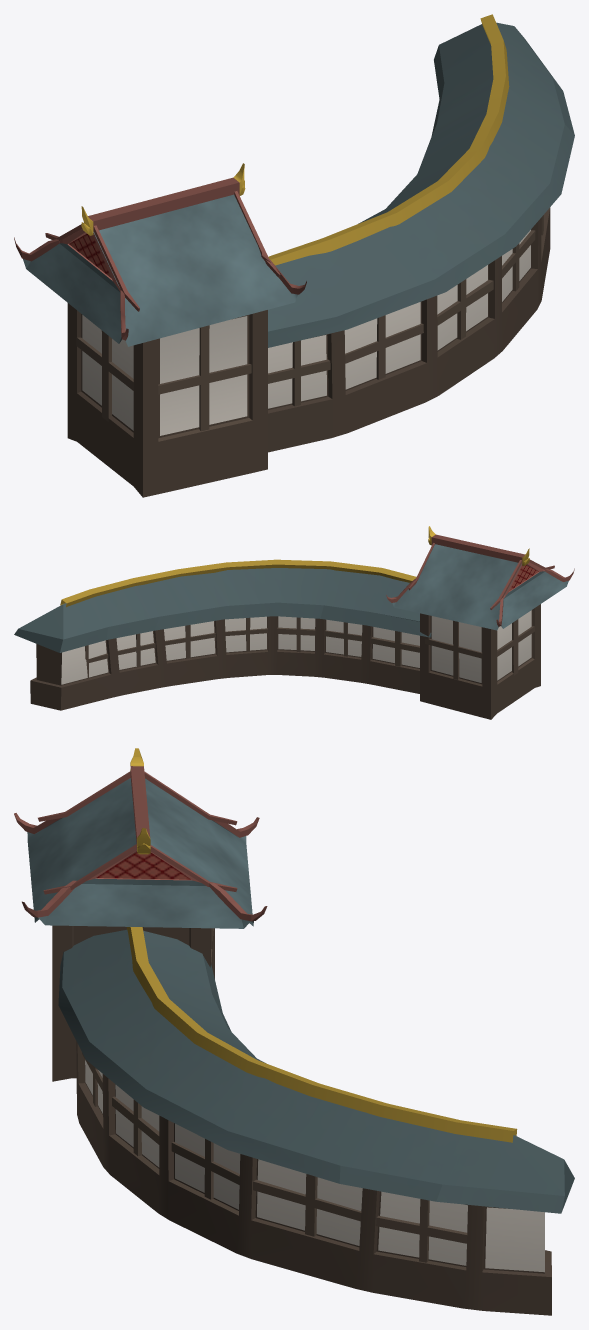
The model's file is lvl_3_B.fbx.
The picture shows the model from 3 angles, top to bottom: view 1: azimuth 30°, elevation 25°; view 2: azimuth 150°, elevation 25°; view 3: azimuth 270°, elevation 25°; orthographic projection. The views are drawn at different scales.
Visible parts, largest first — view 1: lvl_3_B; view 2: lvl_3_B; view 3: lvl_3_B.
Boxes of the visible parts, box(x1,y1,x2,y2) form: lvl_3_B: box(14, 14, 574, 497); lvl_3_B: box(14, 526, 574, 719); lvl_3_B: box(14, 748, 574, 1315).
Bounding box in the file's own units: 1526 × 578 × 1111.
